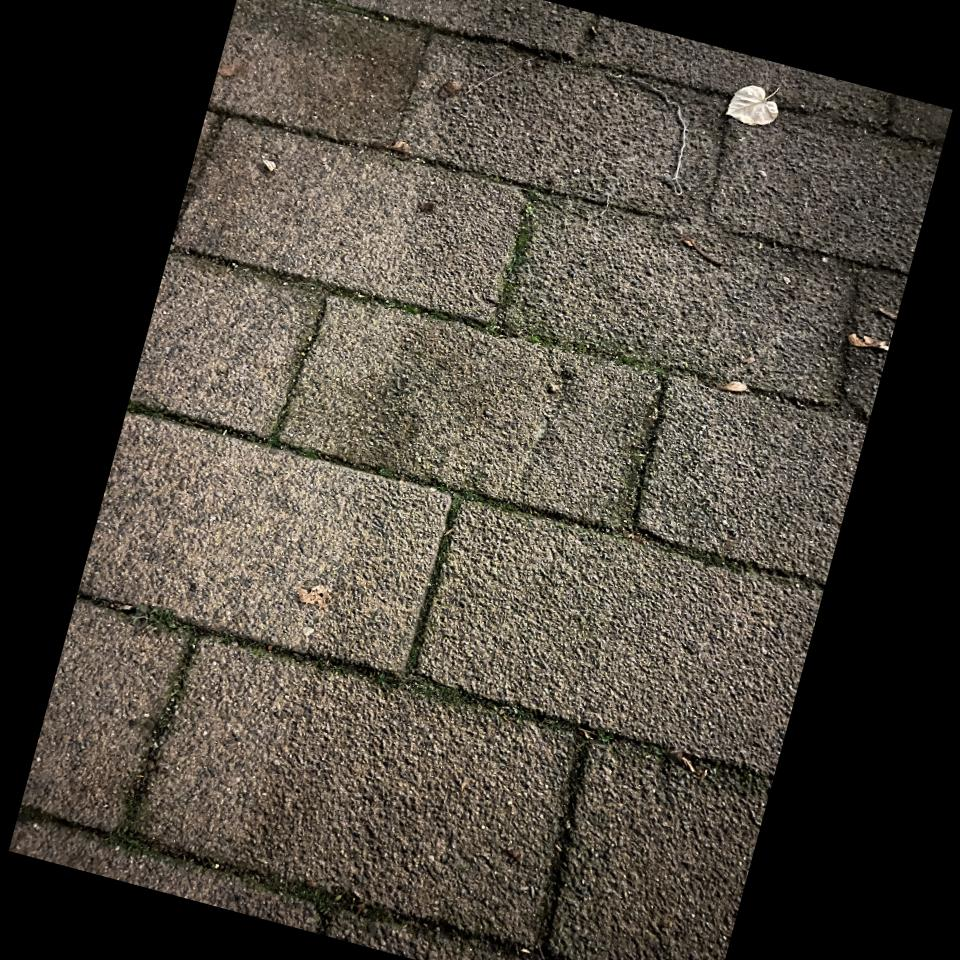weed: (166, 611, 496, 713), (328, 281, 664, 374), (125, 401, 344, 465), (345, 463, 571, 521), (493, 189, 542, 324), (502, 704, 582, 741)
